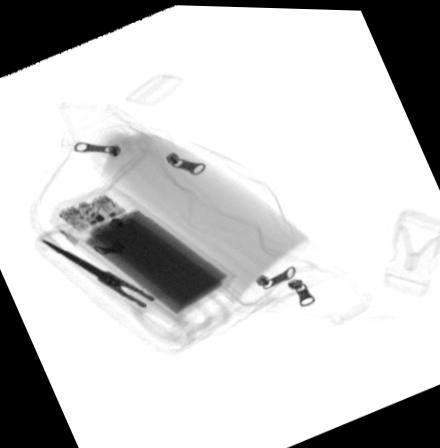Powerbank: (47, 180, 233, 321)
Scissors: (34, 234, 215, 347)
